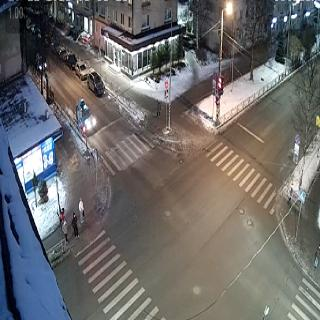small-vehicle: (67, 97, 96, 134), (90, 68, 109, 96), (34, 47, 49, 75), (74, 60, 87, 80)
